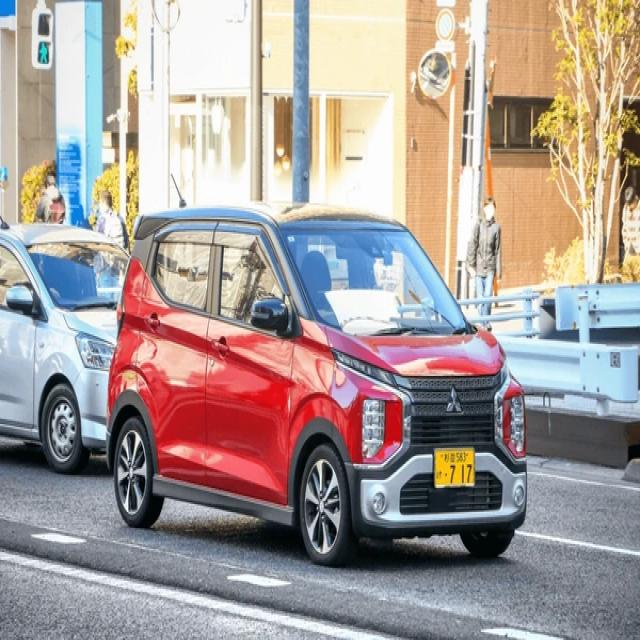mitsubishi: (444, 381, 466, 416)
